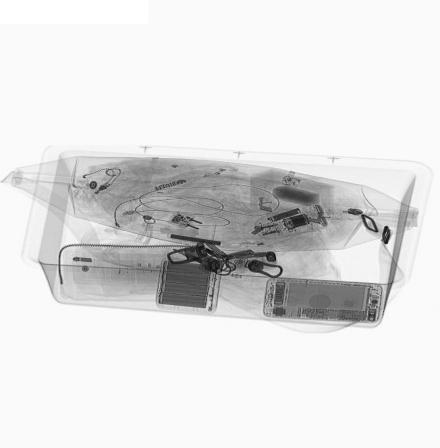Powerbank: (153, 257, 221, 316)
